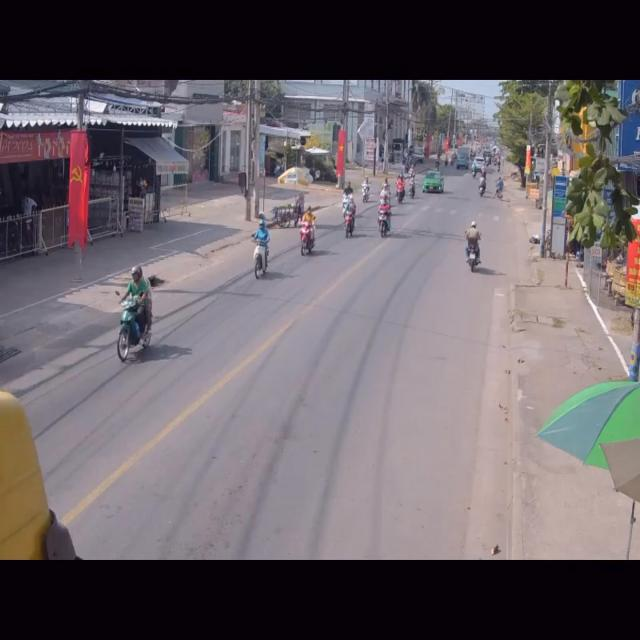motorbike: (120, 271, 154, 369), (251, 223, 271, 282), (463, 219, 481, 273), (301, 208, 319, 259), (344, 192, 358, 241), (378, 195, 393, 240)
